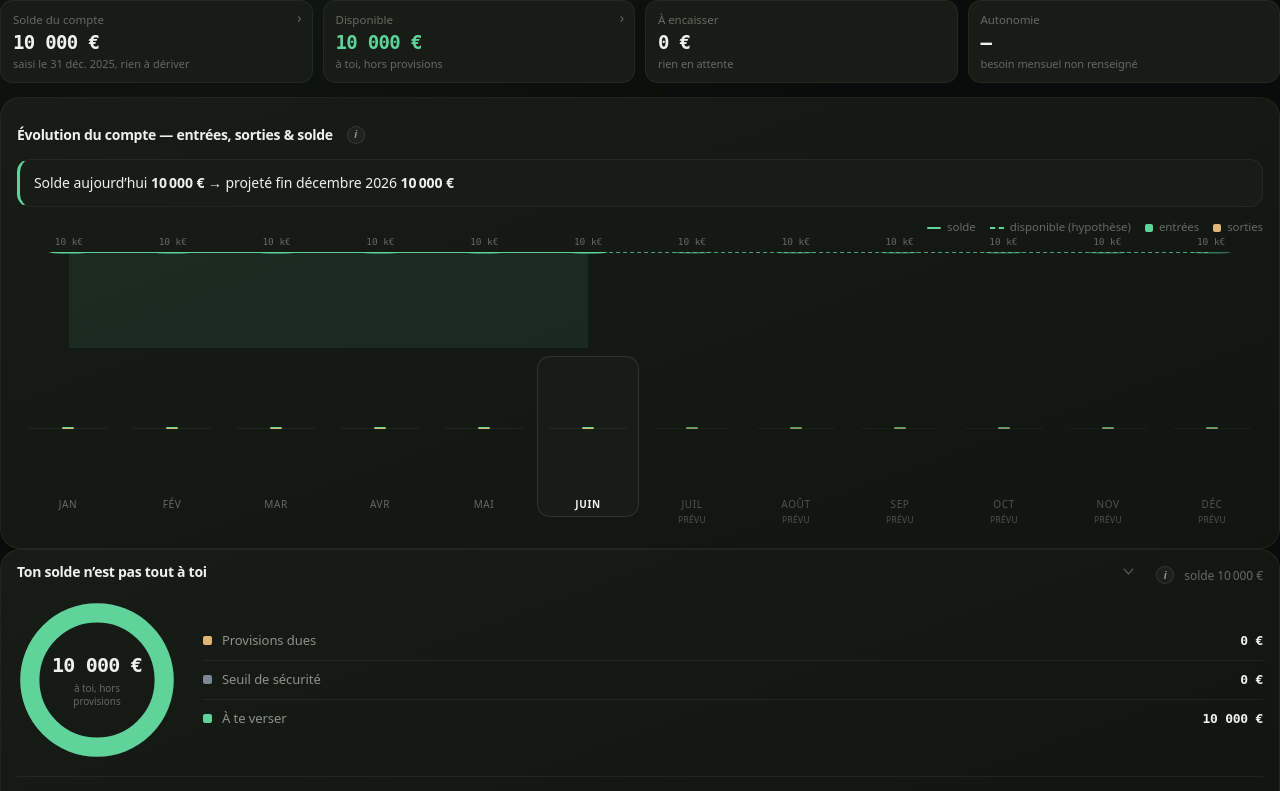
la composition d’un chiffre, au clic sur sa tuile › ouvre la formule du solde
Click the button "Solde du compte" at (58, 20), box [0,0,312,83]
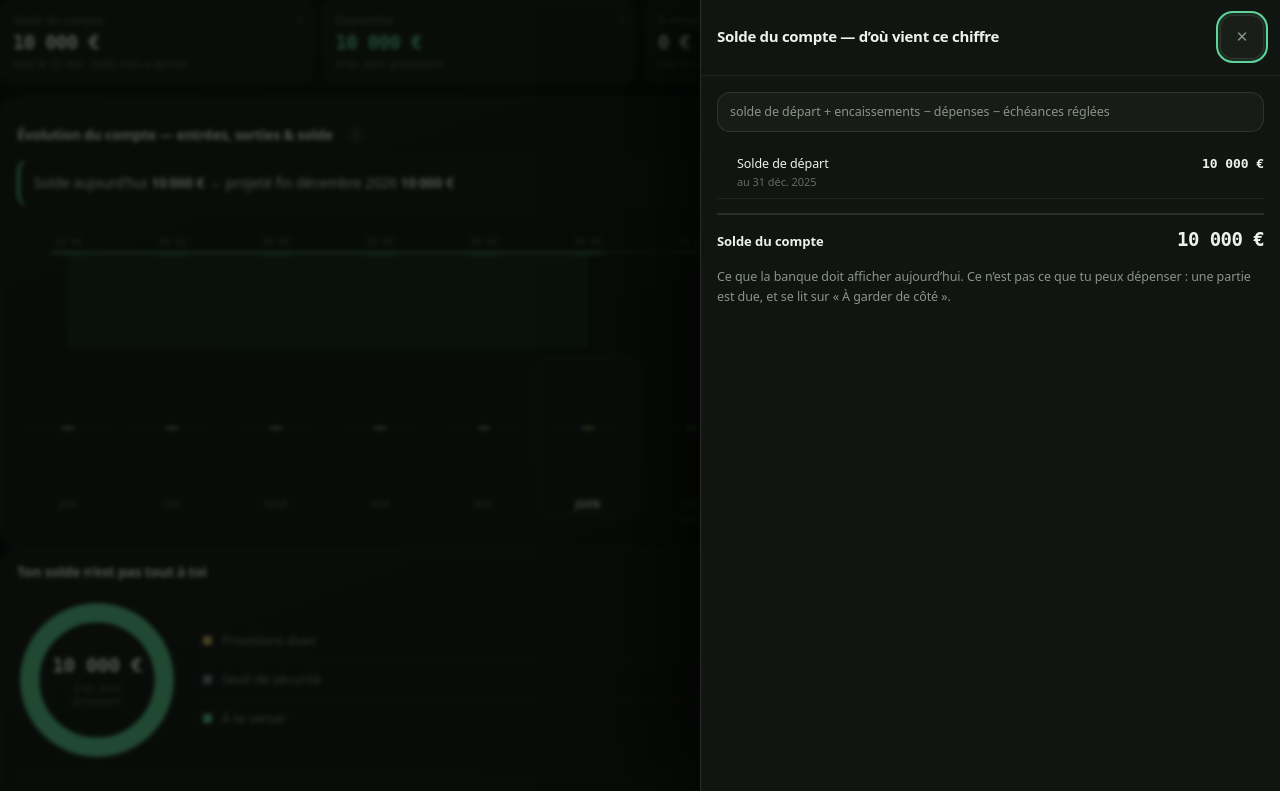
Expected: the text "solde de départ + encaissements" is shown, [730,103,1110,120]
